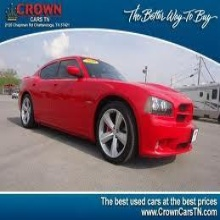no damage: (17, 54, 199, 166)
